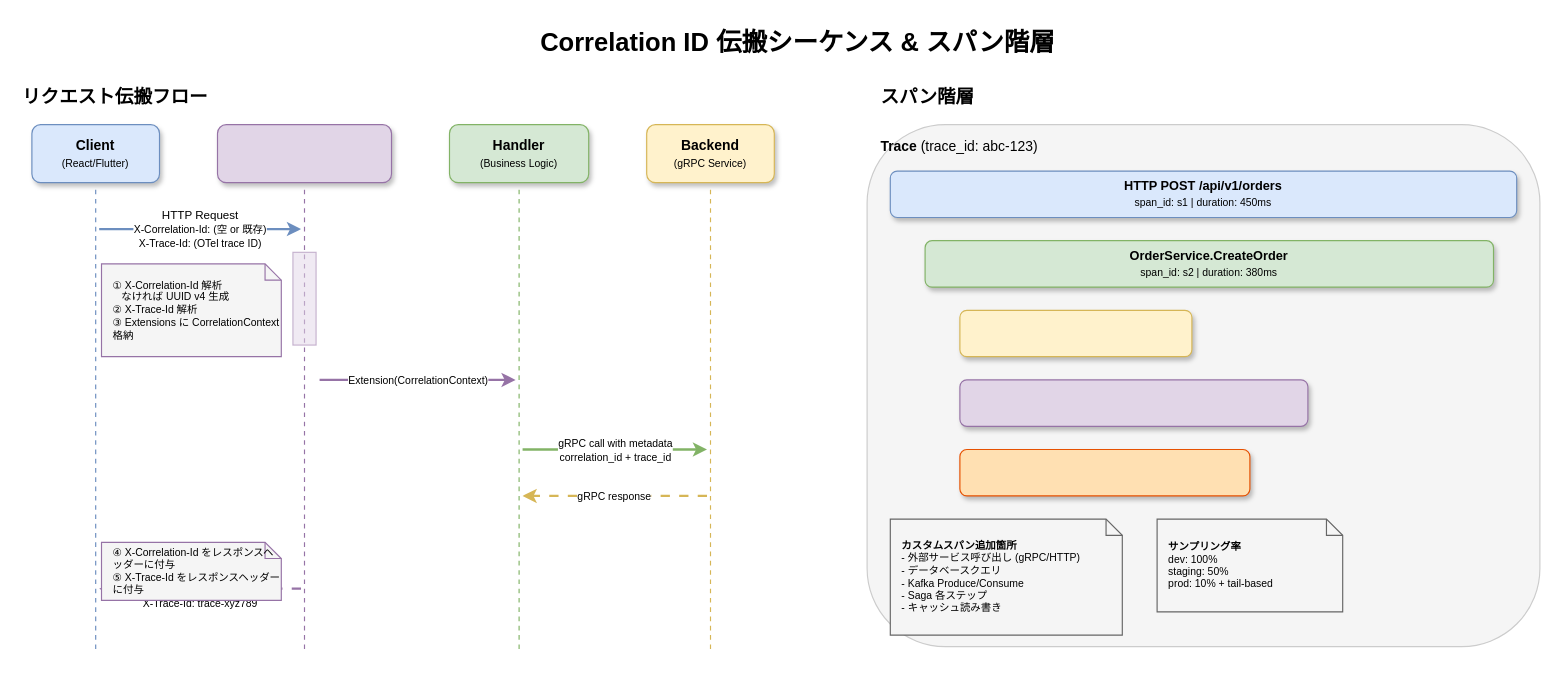
Some shapes in this 1560 by 677 pixel diagram are drawn without their labels. Each missing label, with the centre of its shape:
CorrelationLayer (Rust Middleware): pixel 305 155
DB: INSERT orders span_id: s3 | duration: 50ms: pixel 1076 334
gRPC: InventoryService.Reserve span_id: s4 | duration: 120ms: pixel 1134 404
Kafka: Produce OrderCreated span_id: s5 | duration: 30ms: pixel 1105 474
